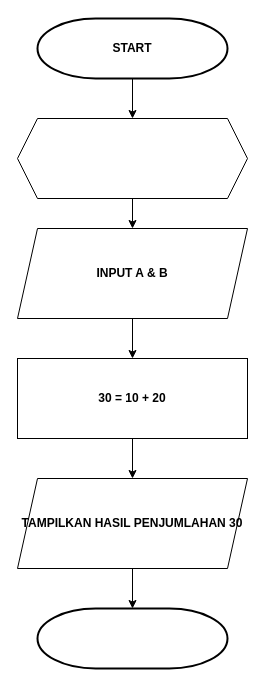
This 265x686 diagram has some shape labels left out. The shapes that lost their labels are listed below. From the top down, each one's box as (x1, y1, x2, y2) in pixels, then its label:
(16, 118, 248, 198): A=10 B=20 C=30
(36, 607, 228, 669): END
